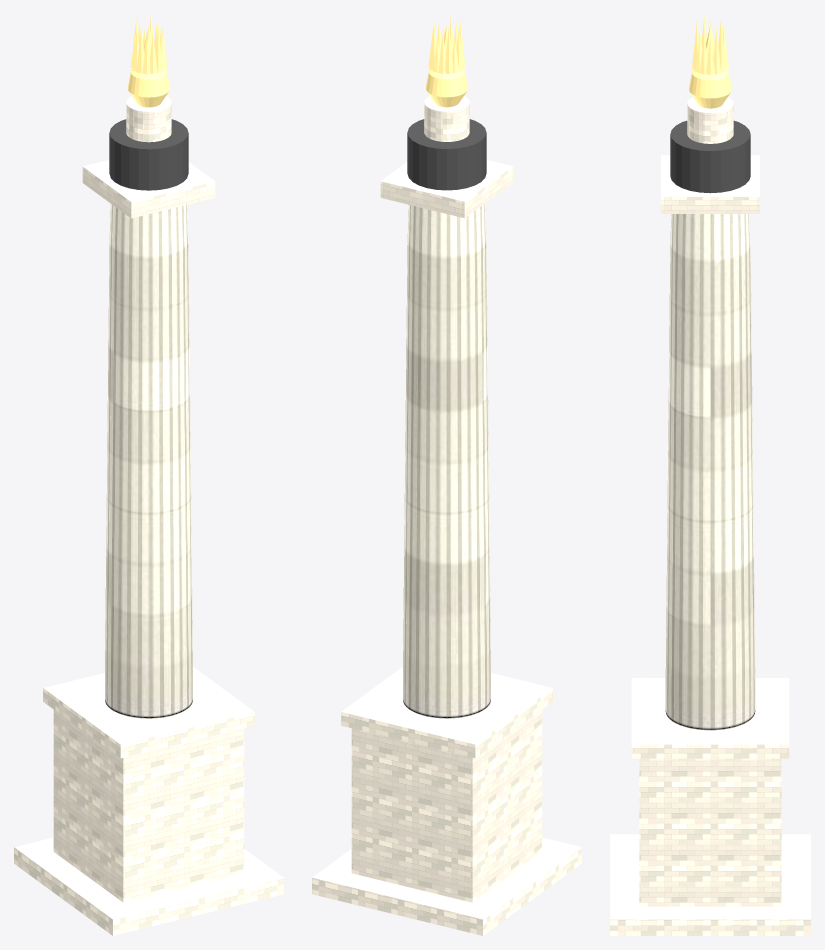
The model's file is monument.glb.
3 renders of one model, left to right at view 1: azimuth 30°, elevation 25°; view 2: azimuth 150°, elevation 25°; view 3: azimuth 270°, elevation 25°, orthographic.
Parts seen in each view (by area): view 1: Step, Column, Cage, Urn; view 2: Step, Column, Cage, Urn; view 3: Step, Column, Cage, Urn.
Boxes of the visible parts, bbox=[...] form: Step: bbox=[14, 96, 283, 935]; Column: bbox=[105, 204, 192, 718]; Cage: bbox=[109, 119, 188, 190]; Urn: bbox=[127, 15, 170, 107]; Step: bbox=[312, 96, 581, 935]; Column: bbox=[403, 203, 490, 718]; Cage: bbox=[407, 119, 486, 190]; Urn: bbox=[425, 15, 468, 107]; Step: bbox=[610, 97, 810, 935]; Column: bbox=[665, 214, 755, 730]; Cage: bbox=[670, 120, 750, 193]; Urn: bbox=[689, 14, 731, 108].
Bounding box in the file's own units: 13 × 62.4 × 13.
4 materials, 2 textured.
